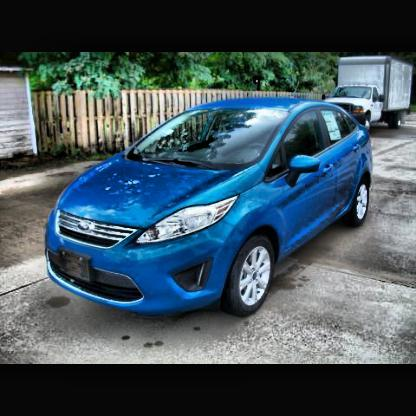Ford Fiesta Sedan 2012: (44, 99, 374, 317)
